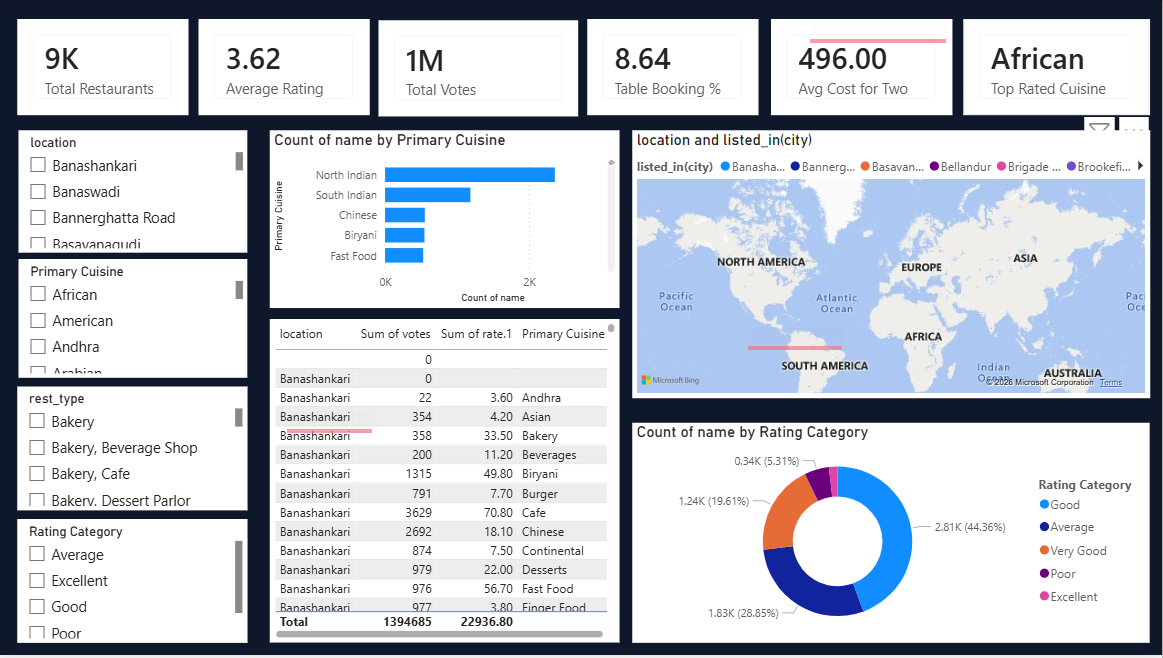

This screenshot's page, from the dashboard's own definition file:
{"tool":"powerbi","page":{"name":"Executive Overview","canvas":[1280,720],"ordinal":0},"visuals":[{"type":"cardVisual","fields":{"Data":["zomato.Total Restaurants"]},"box":[23.3,22,188,105.7],"z":0},{"type":"cardVisual","fields":{"Data":["zomato.Table Booking %"]},"box":[649.1,22,188,105.7],"z":1000},{"type":"cardVisual","fields":{"Data":["zomato.Total Votes"]},"box":[419.9,23.3,219.6,105.7],"z":2000},{"type":"cardVisual","fields":{"Data":["zomato.Average Rating"]},"box":[222.3,22,188,105.7],"z":3000},{"type":"cardVisual","fields":{"Data":["zomato.Top Rated Cuisine"]},"box":[1062.1,22,204.5,105.7],"z":4000},{"type":"cardVisual","fields":{"Data":["zomato.Avg Cost for Two"]},"box":[850.8,22,199,105.7],"z":5000},{"type":"slicer","fields":{"Values":["zomato.location"]},"box":[24.7,144.1,251.1,134.5],"z":6000},{"type":"slicer","fields":{"Values":["zomato.Primary Cuisine"]},"box":[24.7,285.4,251.1,130.4],"z":7000},{"type":"slicer","fields":{"Values":["zomato.rest_type"]},"box":[23.3,425.4,252.5,135.8],"z":8000},{"type":"slicer","fields":{"Values":["zomato.Rating Category"]},"box":[23.3,570.8,252.5,135.8],"z":9000},{"type":"clusteredBarChart","fields":{"Category":["zomato.Primary Cuisine"],"Y":["CountNonNull(zomato.name)"]},"box":[300.5,144.1,384.2,194.9],"z":11000},{"type":"filledMap","fields":{"Category":["zomato.location"],"Series":["zomato.listed_in(city)"]},"box":[698.5,144.1,568.1,293.7],"z":12000},{"type":"donutChart","fields":{"Category":["zomato.Rating Category"],"Y":["CountNonNull(zomato.name)"]},"box":[698.5,465.2,568.1,241.5],"z":13000},{"type":"tableEx","fields":{"Values":["zomato.location","Sum(zomato.votes)","Sum(zomato.rate.1)","zomato.Primary Cuisine"]},"box":[300.5,351.3,384.2,355.4],"z":14000}]}

Visuals, with their boxes in screenshot pixels (x1, y1, x2, y2), scaled from the page's 1280x720 canvas onto the 1163x658 screenshot:
cardVisual - zomato.Total Restaurants: l=21, t=20, r=192, b=117
cardVisual - zomato.Table Booking %: l=590, t=20, r=761, b=117
cardVisual - zomato.Total Votes: l=382, t=21, r=581, b=118
cardVisual - zomato.Average Rating: l=202, t=20, r=373, b=117
cardVisual - zomato.Top Rated Cuisine: l=965, t=20, r=1151, b=117
cardVisual - zomato.Avg Cost for Two: l=773, t=20, r=954, b=117
slicer - zomato.location: l=22, t=132, r=251, b=255
slicer - zomato.Primary Cuisine: l=22, t=261, r=251, b=380
slicer - zomato.rest_type: l=21, t=389, r=251, b=513
slicer - zomato.Rating Category: l=21, t=522, r=251, b=646
clusteredBarChart - zomato.Primary Cuisine x CountNonNull(zomato.name): l=273, t=132, r=622, b=310
filledMap - zomato.location x zomato.listed_in(city): l=635, t=132, r=1151, b=400
donutChart - zomato.Rating Category x CountNonNull(zomato.name): l=635, t=425, r=1151, b=646
tableEx - zomato.location x Sum(zomato.votes): l=273, t=321, r=622, b=646
